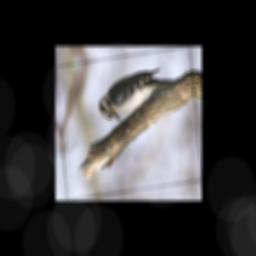Woodpecker: (91, 62, 178, 126)
